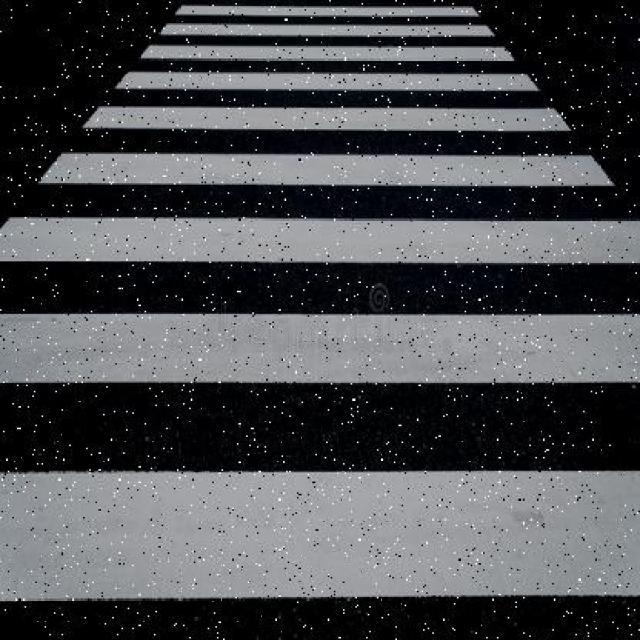crosswalk: (0, 5, 640, 603)
